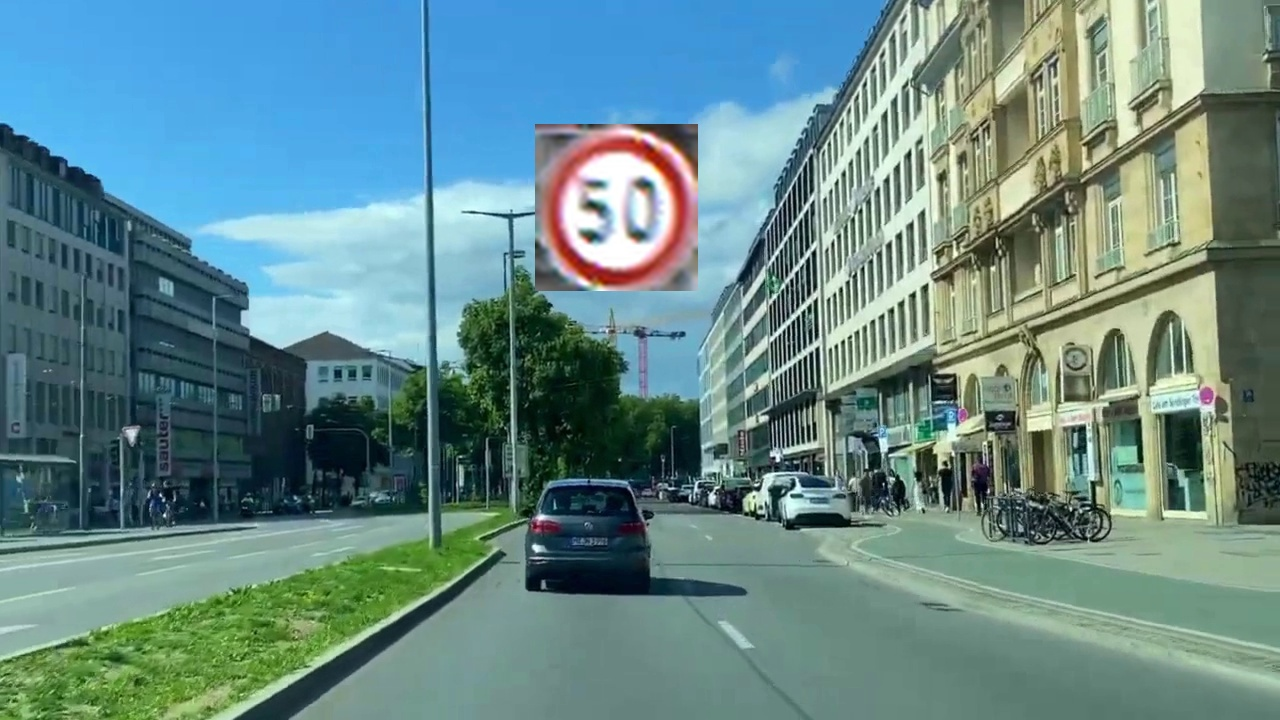Speed 50: (535, 124, 698, 291)
